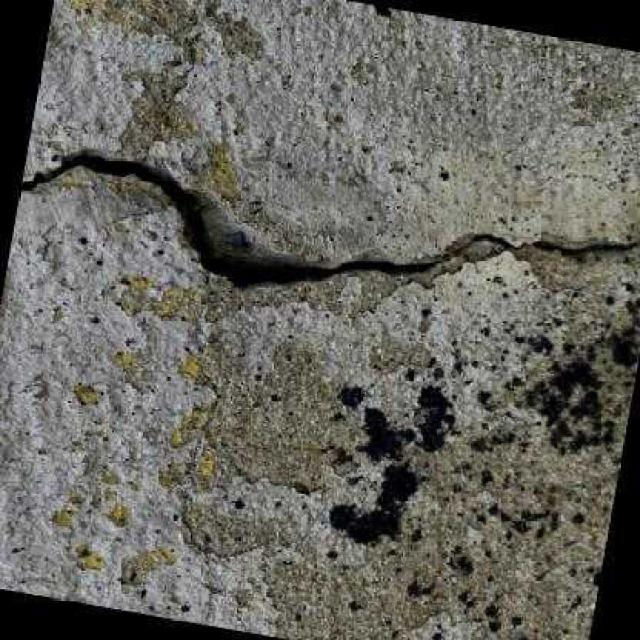D00: (18, 152, 640, 287)
